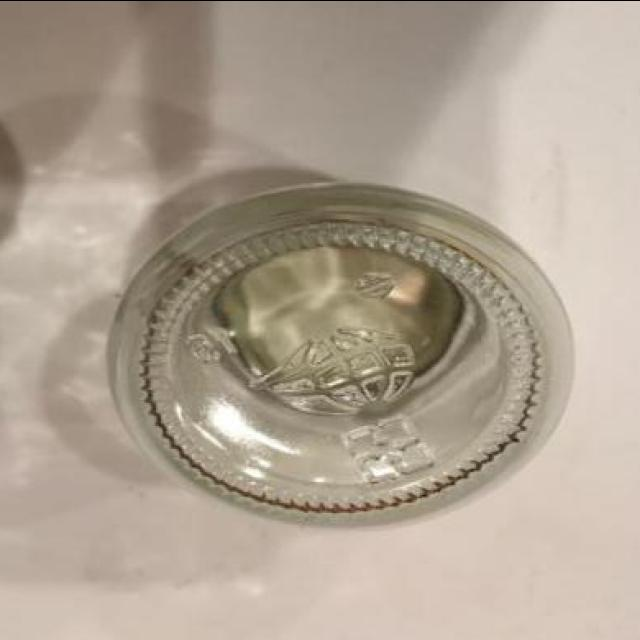kaca: (108, 186, 578, 530)
